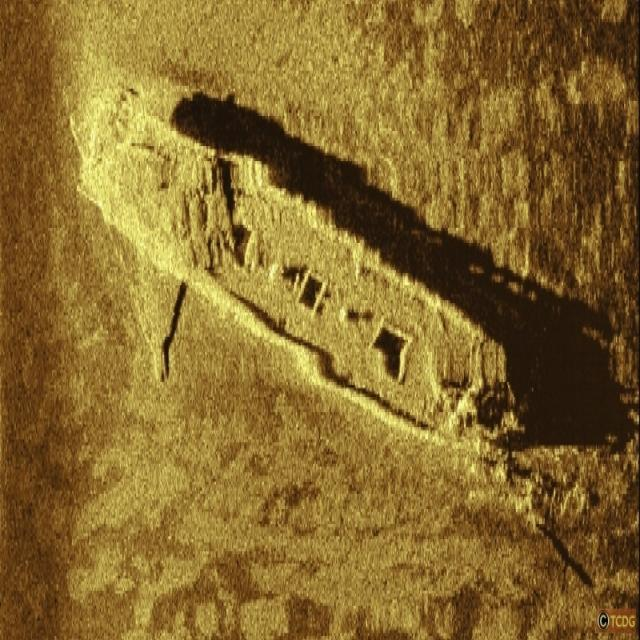shipwreck: (74, 87, 512, 457)
